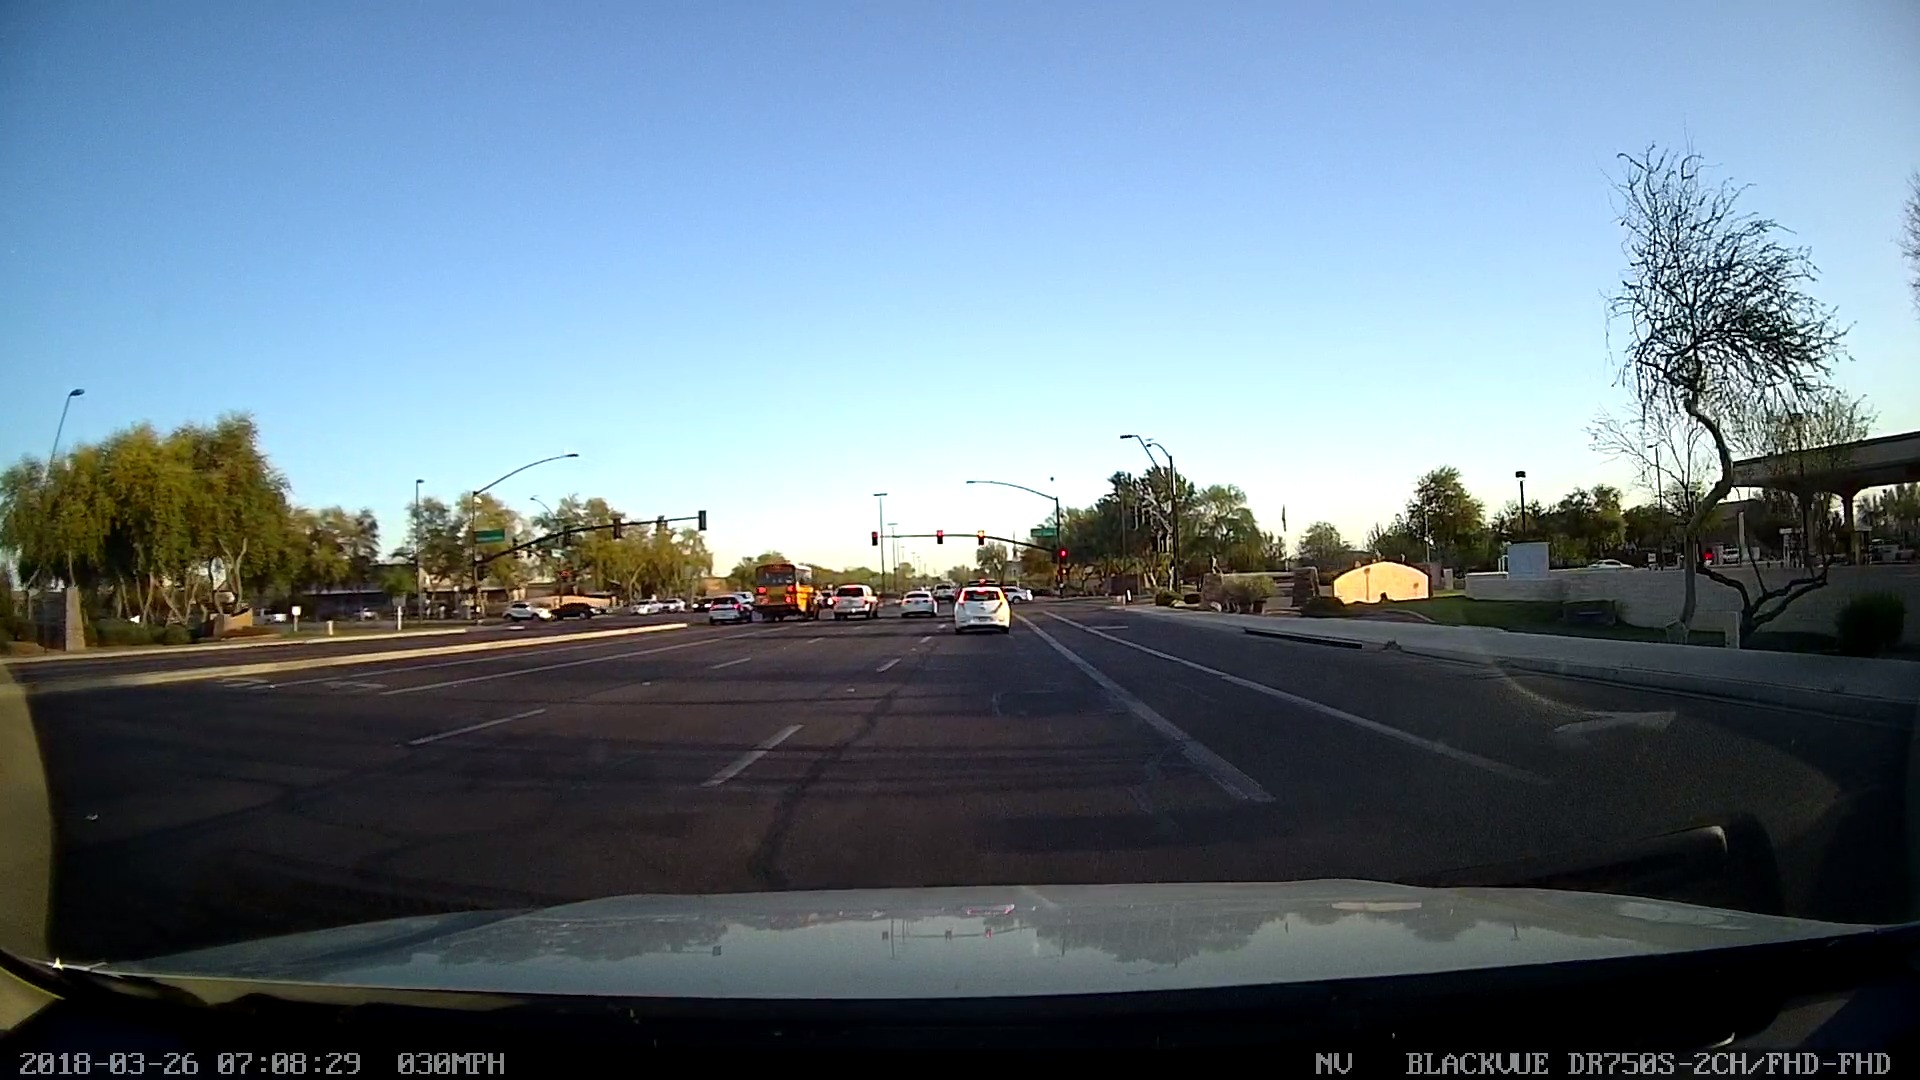vehicle: (746, 554, 825, 629), (949, 580, 1011, 633), (825, 576, 882, 618), (898, 578, 939, 626), (703, 585, 738, 626)
